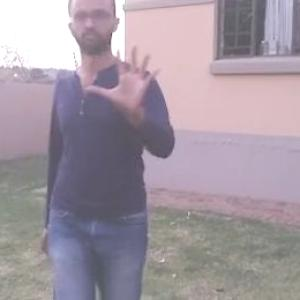follow_hand: (87, 39, 165, 112)
